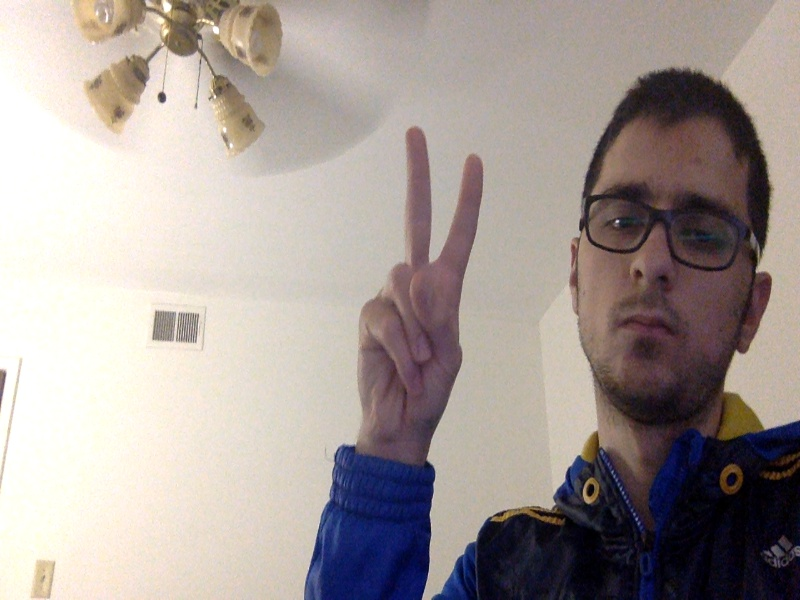2-hand: (355, 127, 485, 440)
